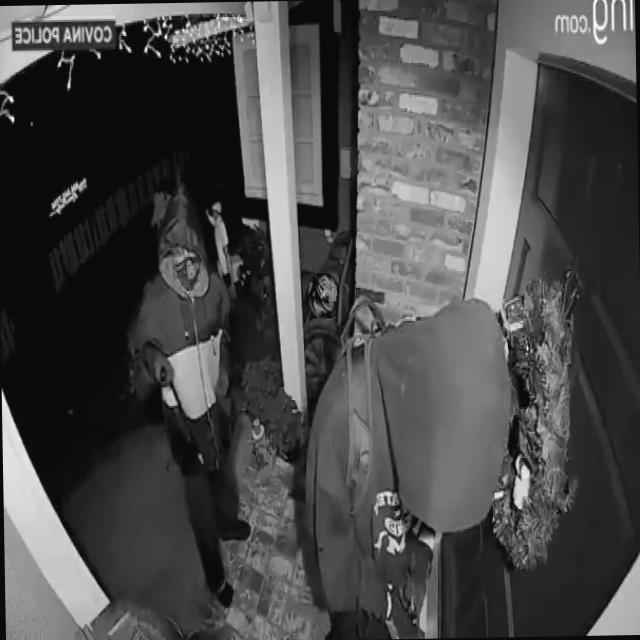weapon: (295, 265, 515, 640), (126, 126, 256, 614)
